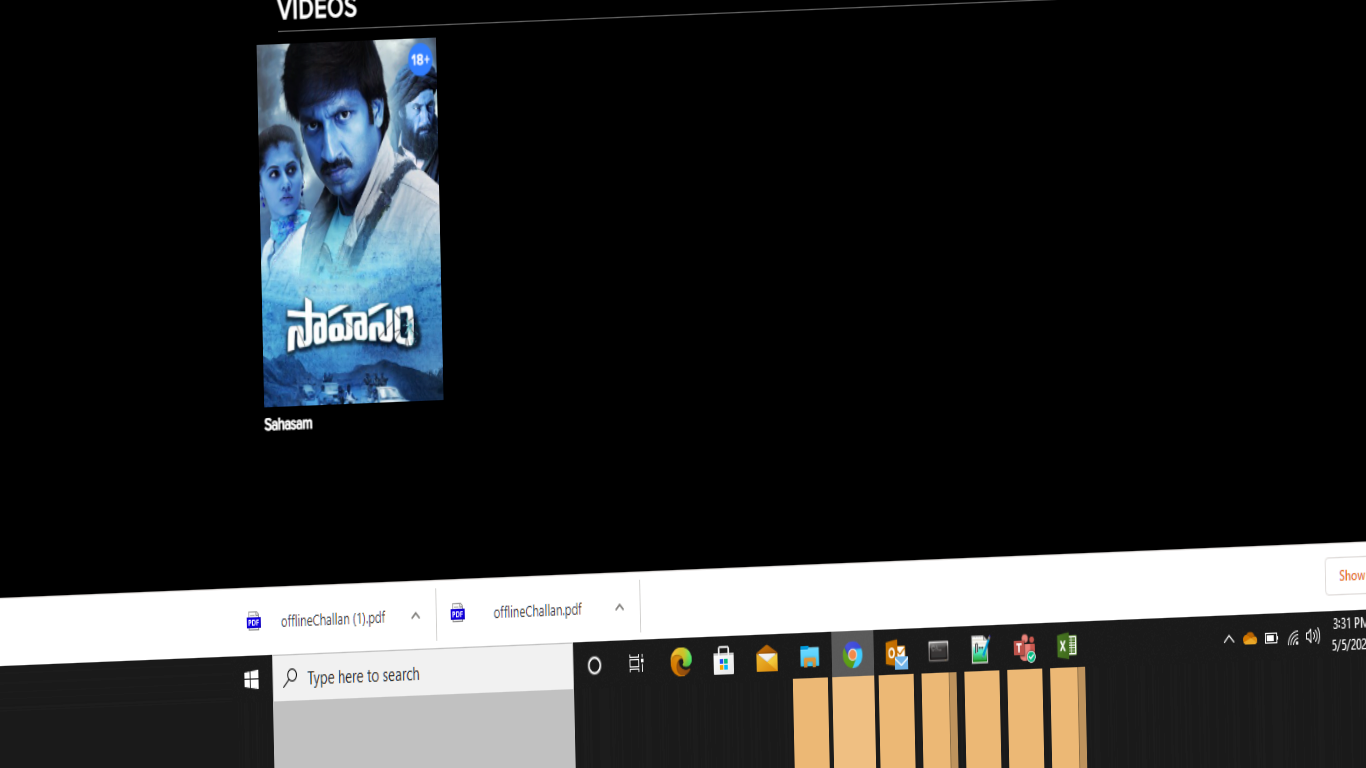searchtextbox: (270, 2, 1048, 31)
